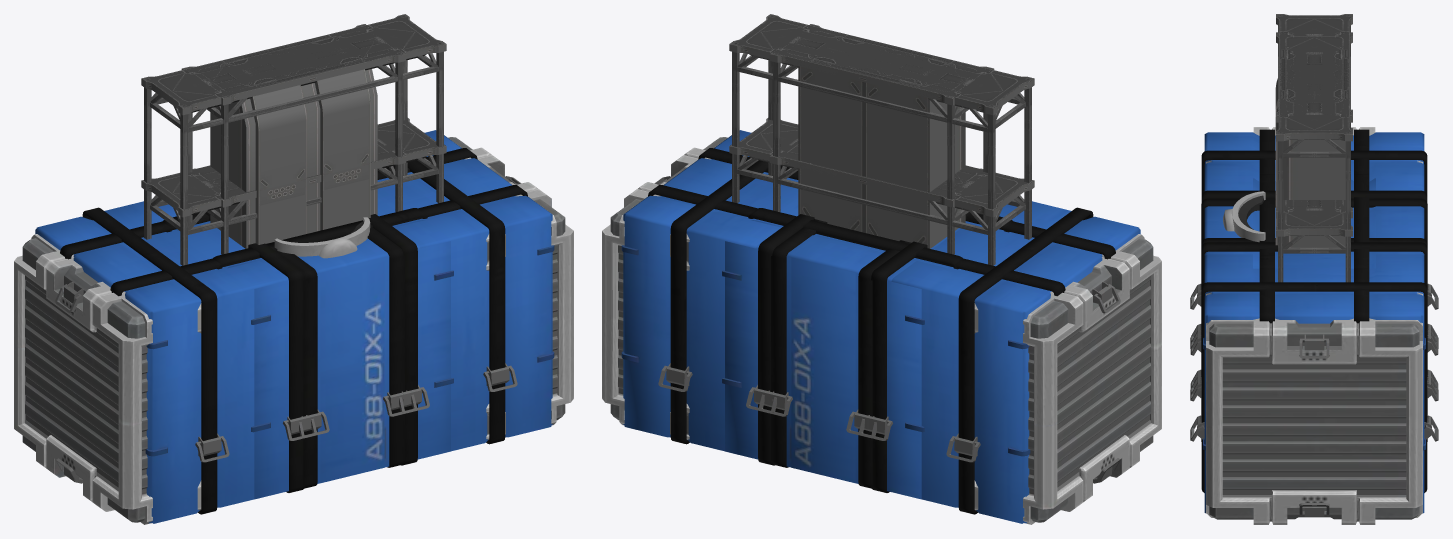
Rendered from scifi-essentials.glb.
3 views of the same model, side by side, from view 1: azimuth 30°, elevation 25°; view 2: azimuth 150°, elevation 25°; view 3: azimuth 270°, elevation 25° (orthographic). The views are drawn at different scales.
Visible parts, largest first — view 1: Prop_Crate_Tarp_Large, Prop_Crate_Tarp, Prop_Crate_Large, Prop_Shelves_WideTall, Prop_Locker, Prop_Shelves_ThinTall, Prop_Chair; view 2: Prop_Crate_Tarp_Large, Prop_Crate_Tarp, Prop_Crate_Large, Prop_Shelves_WideTall, Prop_Locker, Prop_Shelves_ThinTall; view 3: Prop_Crate_Large, Prop_Crate_Tarp_Large, Prop_Shelves_WideTall, Prop_Crate_Tarp, Prop_Locker, Prop_Shelves_ThinTall, Prop_Chair.
Boxes of the visible parts, bbox=[...] form: Prop_Crate_Tarp_Large: bbox=[35, 130, 554, 523]; Prop_Crate_Tarp: bbox=[162, 208, 453, 499]; Prop_Crate_Large: bbox=[14, 137, 573, 524]; Prop_Shelves_WideTall: bbox=[141, 14, 446, 265]; Prop_Locker: bbox=[210, 69, 377, 248]; Prop_Shelves_ThinTall: bbox=[181, 24, 406, 254]; Prop_Chair: bbox=[274, 217, 370, 258]; Prop_Crate_Tarp_Large: bbox=[621, 130, 1140, 523]; Prop_Crate_Tarp: bbox=[722, 208, 1013, 499]; Prop_Crate_Large: bbox=[602, 137, 1161, 524]; Prop_Shelves_WideTall: bbox=[729, 14, 1034, 265]; Prop_Locker: bbox=[798, 66, 965, 248]; Prop_Shelves_ThinTall: bbox=[769, 24, 994, 254]; Prop_Crate_Large: bbox=[1206, 127, 1422, 524]; Prop_Crate_Tarp_Large: bbox=[1190, 129, 1438, 513]; Prop_Shelves_WideTall: bbox=[1276, 14, 1352, 282]; Prop_Crate_Tarp: bbox=[1190, 174, 1438, 441]; Prop_Locker: bbox=[1275, 78, 1345, 247]; Prop_Shelves_ThinTall: bbox=[1276, 32, 1352, 218]; Prop_Chair: bbox=[1223, 191, 1265, 242].
Size of the model in its own units: 3.47 by 2.68 by 1.72.
6 materials, 6 textured.
